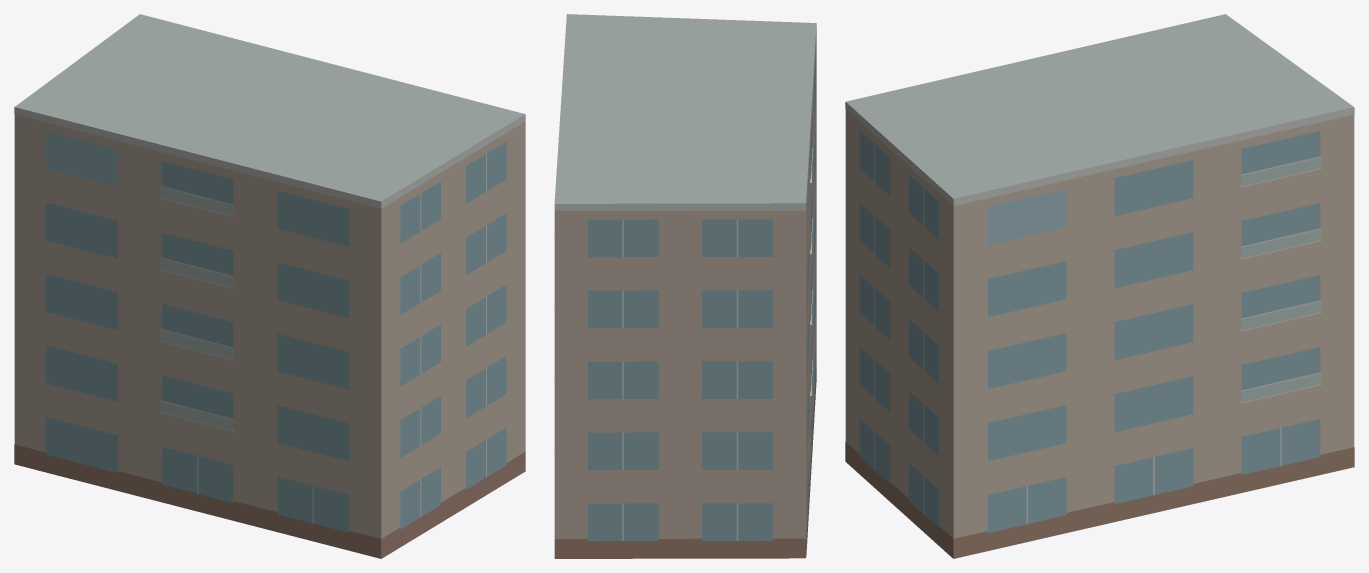
File: survey-upis-32889394.glb
The picture shows the model from 3 angles, left to right: view 1: azimuth 30°, elevation 25°; view 2: azimuth 150°, elevation 25°; view 3: azimuth 270°, elevation 25°; orthographic projection.
Parts seen in each view (by area): view 1: survey-upis-32889394.tmp; view 2: survey-upis-32889394.tmp; view 3: survey-upis-32889394.tmp.
Part boxes in pixels (bbox=[...]): survey-upis-32889394.tmp: bbox=[14, 14, 525, 558]; survey-upis-32889394.tmp: bbox=[554, 14, 816, 558]; survey-upis-32889394.tmp: bbox=[845, 14, 1354, 558].
Size of the model in its own units: 13.28 by 12.05 by 15.45.
